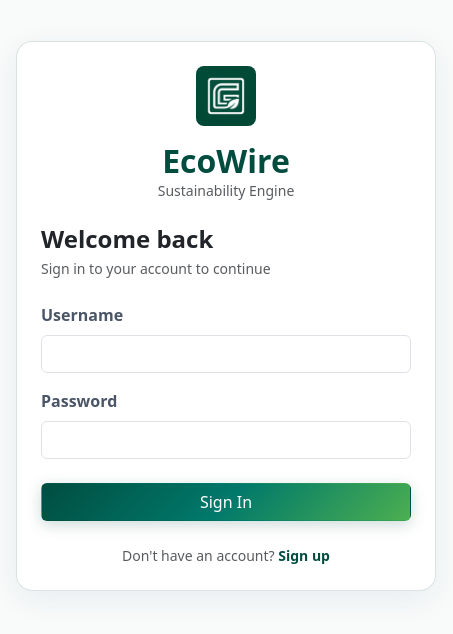
it: LoginPage — unit tests › shows inline validation errors when both fields are empty on submit
The image size is (453, 634).
Click the button "Sign In": (226, 502) [41, 483, 411, 521]
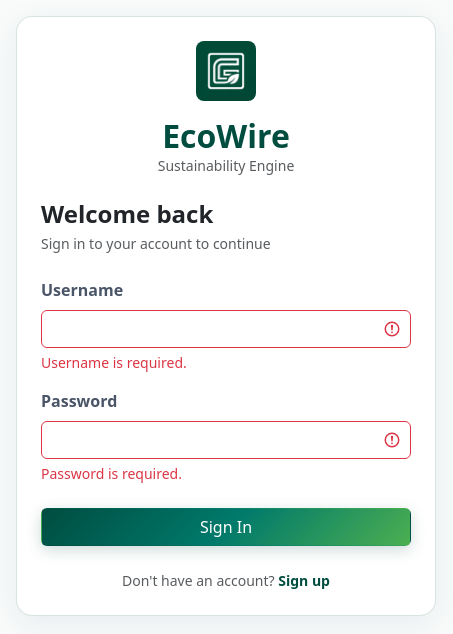
Result: the text "Username is required." is shown at [41, 353, 187, 372]
Result: the text "Password is required." is shown at [41, 464, 182, 483]
